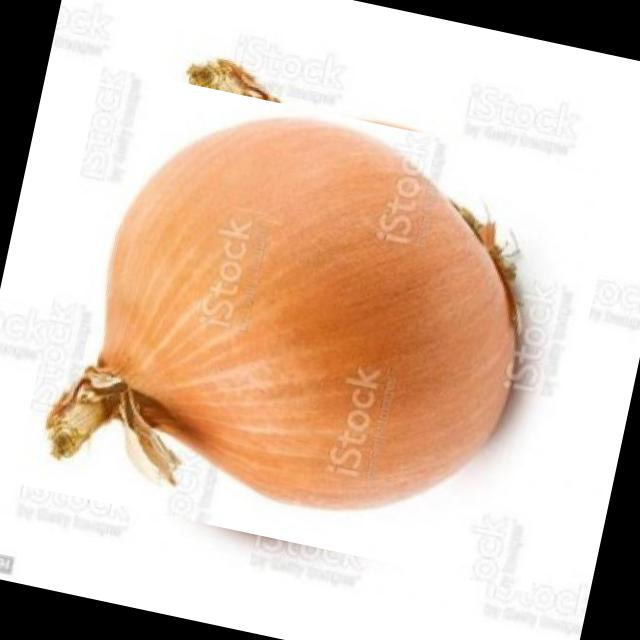Onion: (33, 46, 600, 612)
